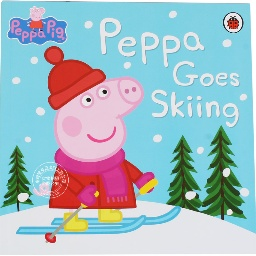Peppa: (42, 46, 159, 232)
